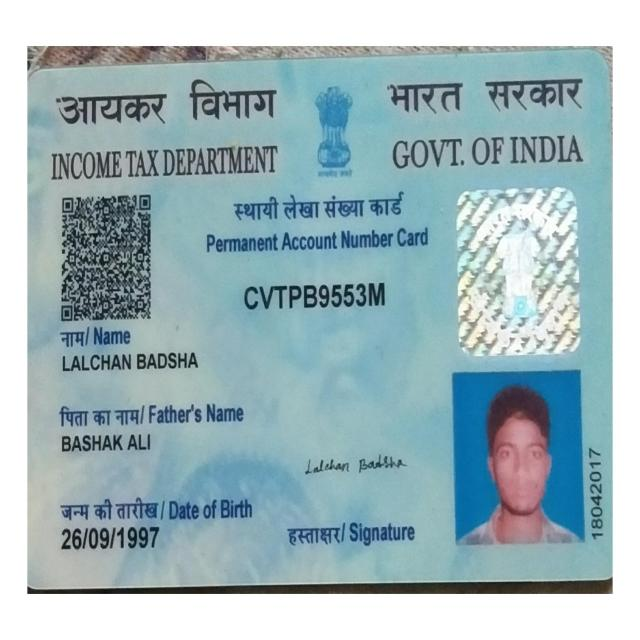pan_card: (29, 52, 613, 584)
